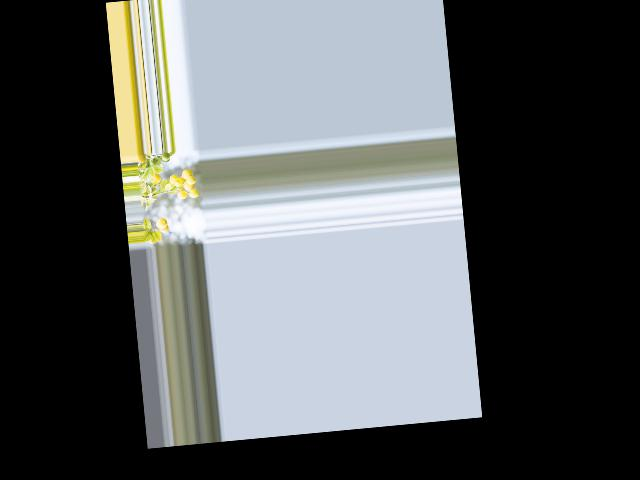lemon: (181, 169, 195, 180)
